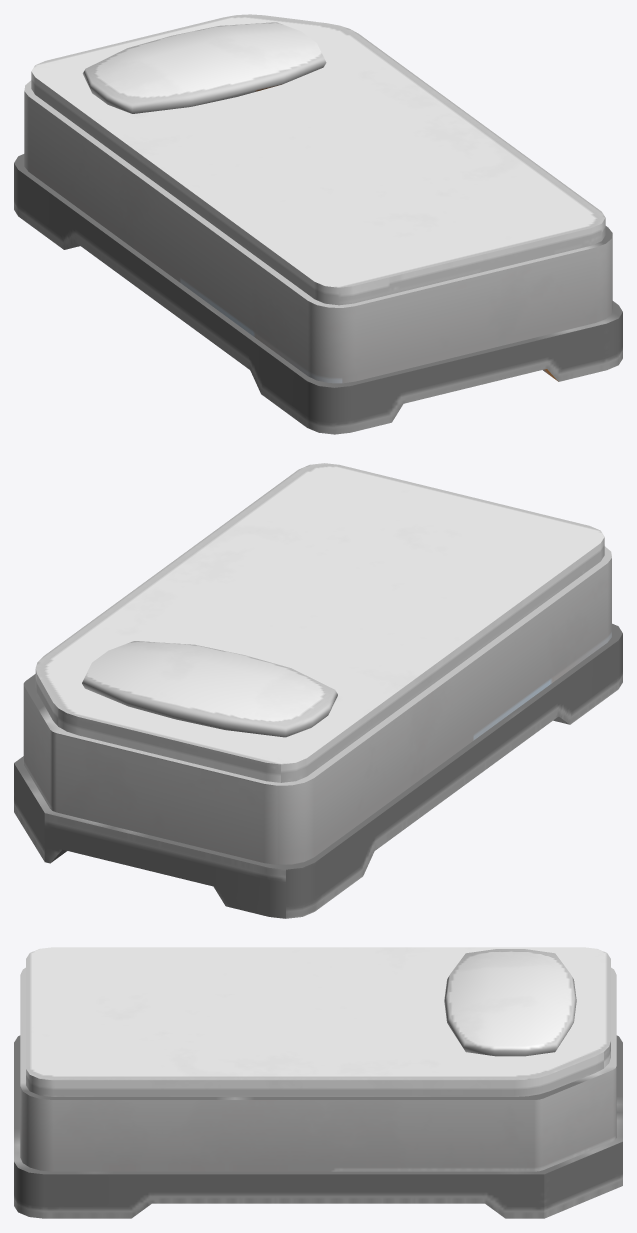
The model's file is SM_prop_Stage1_Bed.fbx.
The picture shows the model from 3 angles, top to bottom: view 1: azimuth 30°, elevation 25°; view 2: azimuth 150°, elevation 25°; view 3: azimuth 270°, elevation 25°; orthographic projection. The views are drawn at different scales.
Parts seen in each view (by area): view 1: SM_prop_Stage1_Bed; view 2: SM_prop_Stage1_Bed; view 3: SM_prop_Stage1_Bed.
Boxes of the visible parts, box(x1,y1,x2,y2) form: SM_prop_Stage1_Bed: box(14, 14, 622, 434); SM_prop_Stage1_Bed: box(14, 463, 622, 918); SM_prop_Stage1_Bed: box(14, 947, 622, 1218).
Bounding box in the file's own units: 108 × 52.6 × 192.
1 material, 1 textured.
